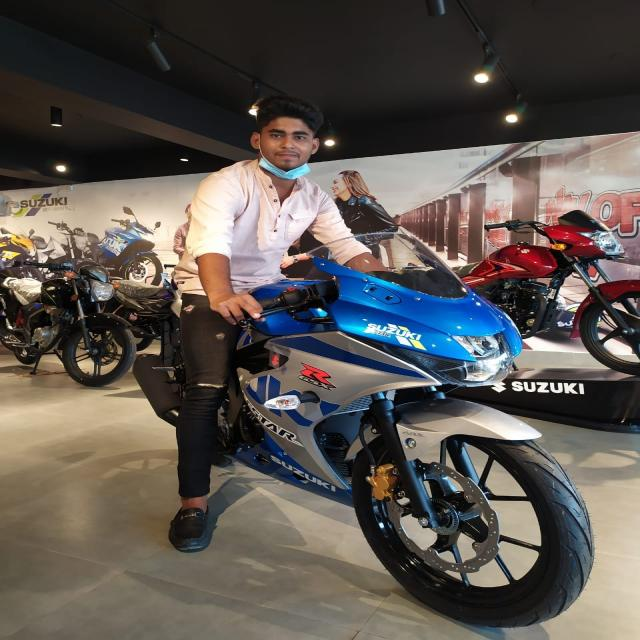Not Wearing Helmet: (209, 104, 335, 238)
